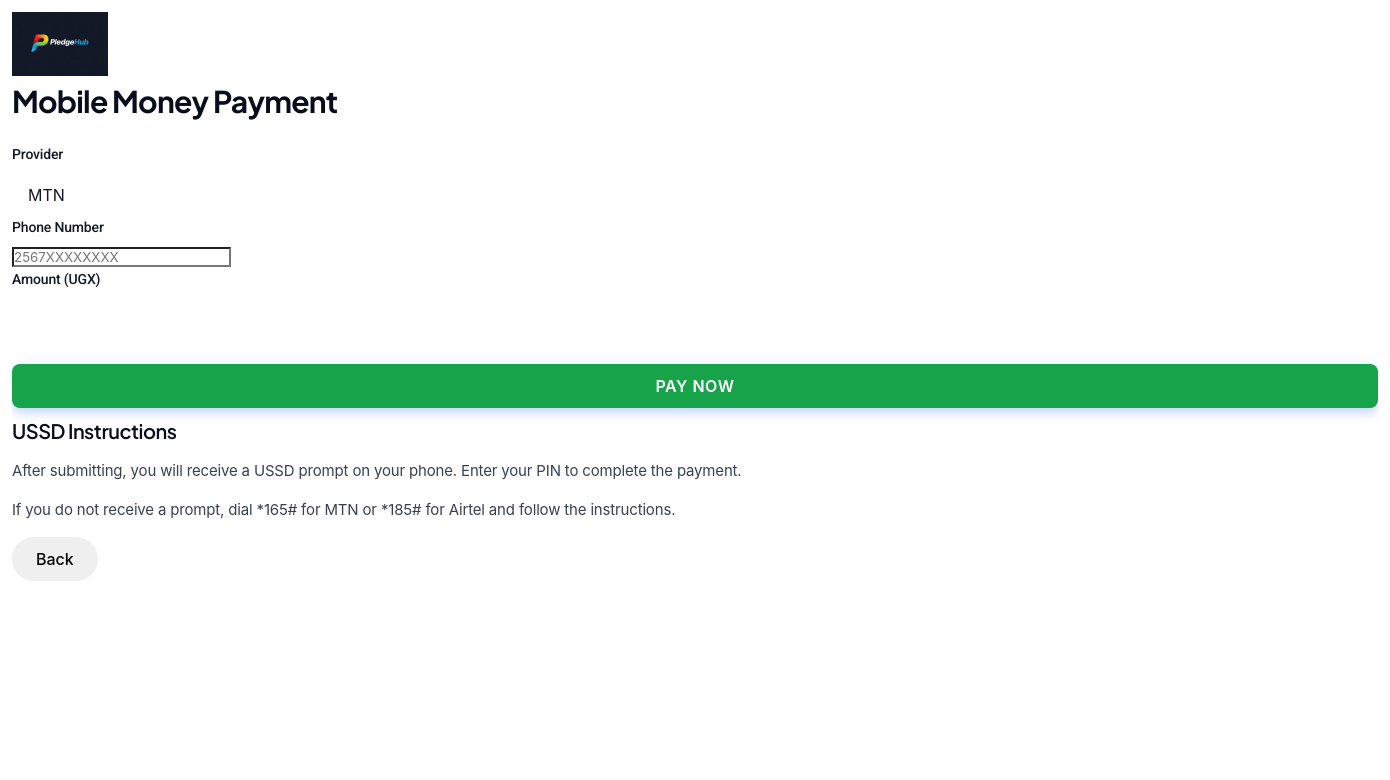
Scenario: MobileMoneyPaymentScreen › shows error if phone or amount missing
The width and height of the screenshot is (1390, 780).
Step 1. Click the button "Pay Now" → (695, 386), box x1=12 y1=364 x2=1378 y2=408
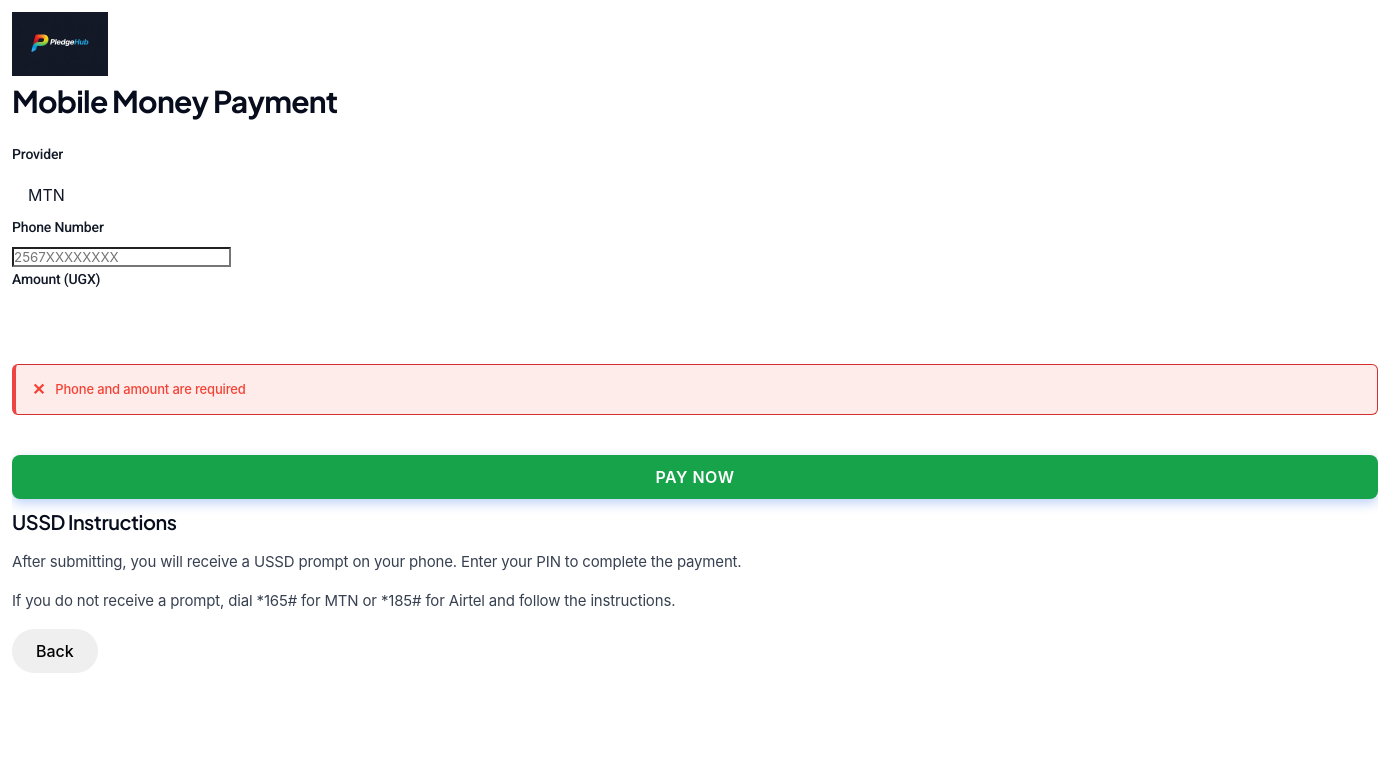
Check: the text "Phone and amount are required" is shown, box x1=12 y1=364 x2=1378 y2=415
